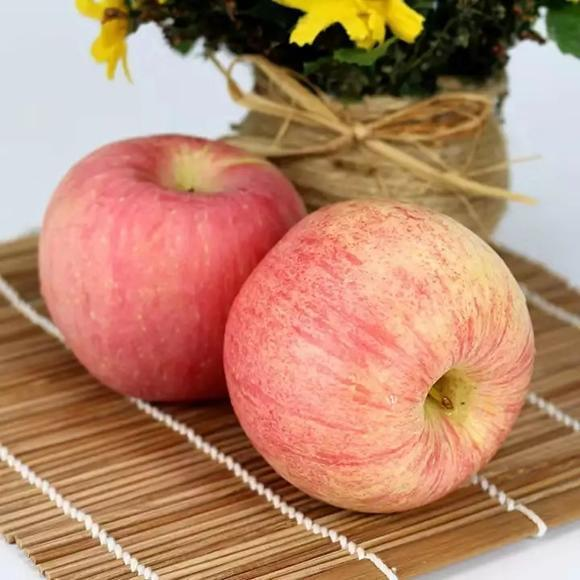apple: (222, 196, 537, 515), (38, 136, 302, 405)
